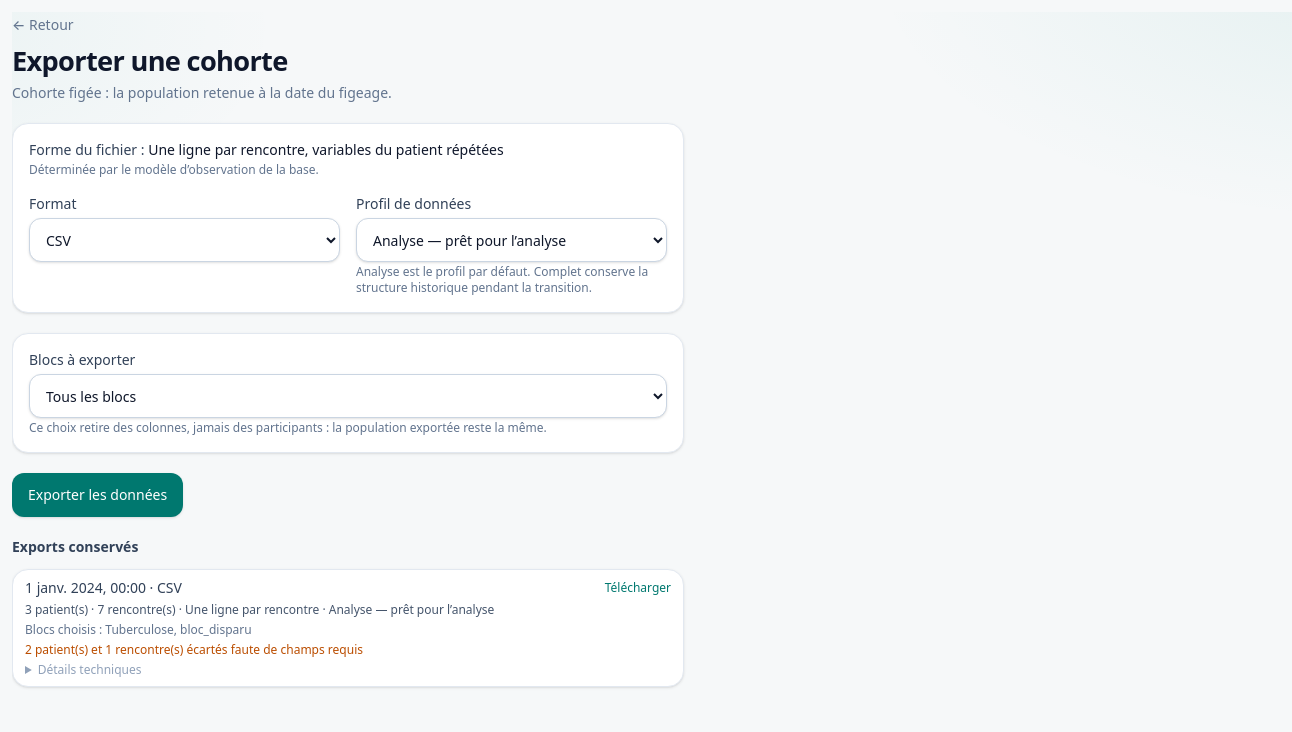
Test: ExportPanel › etat d execution et bilan (UX-15) › un telechargement en echec ne dit pas que l export a echoue et garde l historique
The image size is (1292, 732).
Expected: the text "Une ligne par rencontre" is shown, [176,601,319,618]
Expected: the text "Blocs choisis : Tuberculose, bloc_disparu" is shown, [25,621,252,638]
Click the button "Télécharger" at (638,588), box [605,580,671,596]
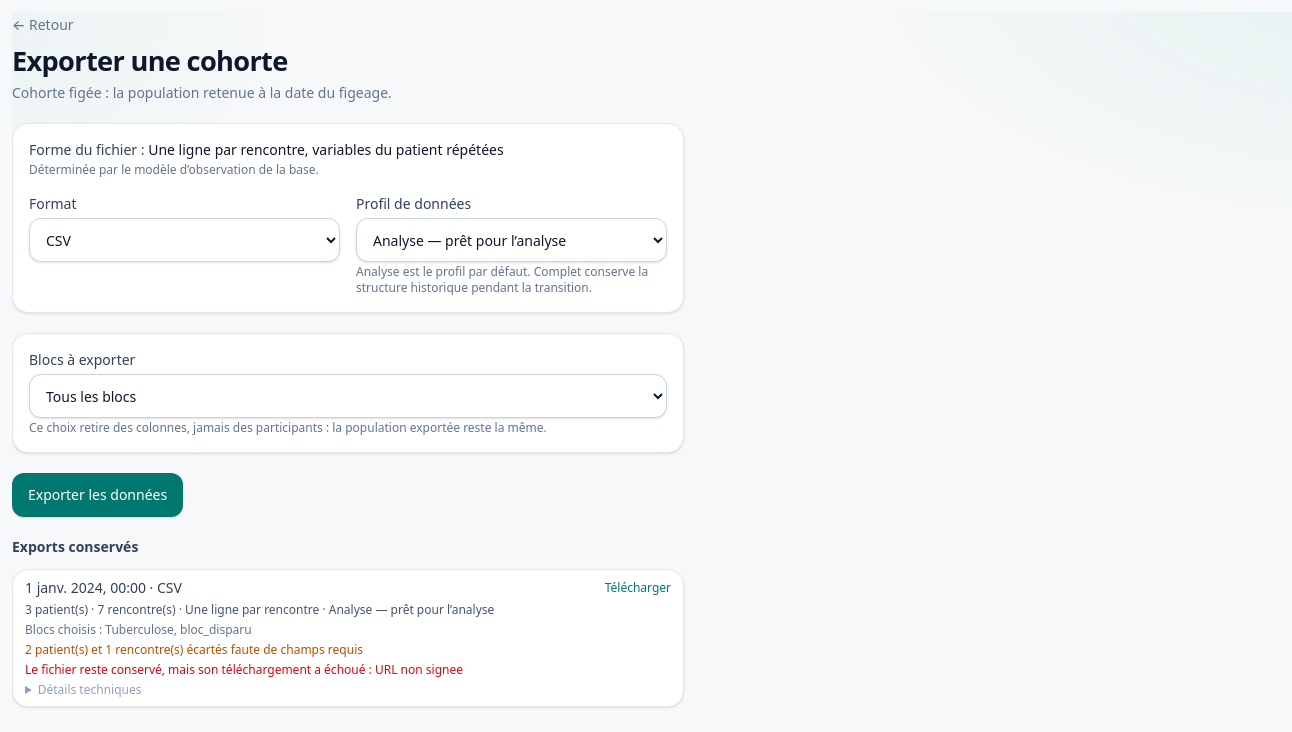
Expected: the text "3 patient(s)" is shown, [25,601,176,618]
Result: the message shows "téléchargement a échoué" at [25,661,463,678]
